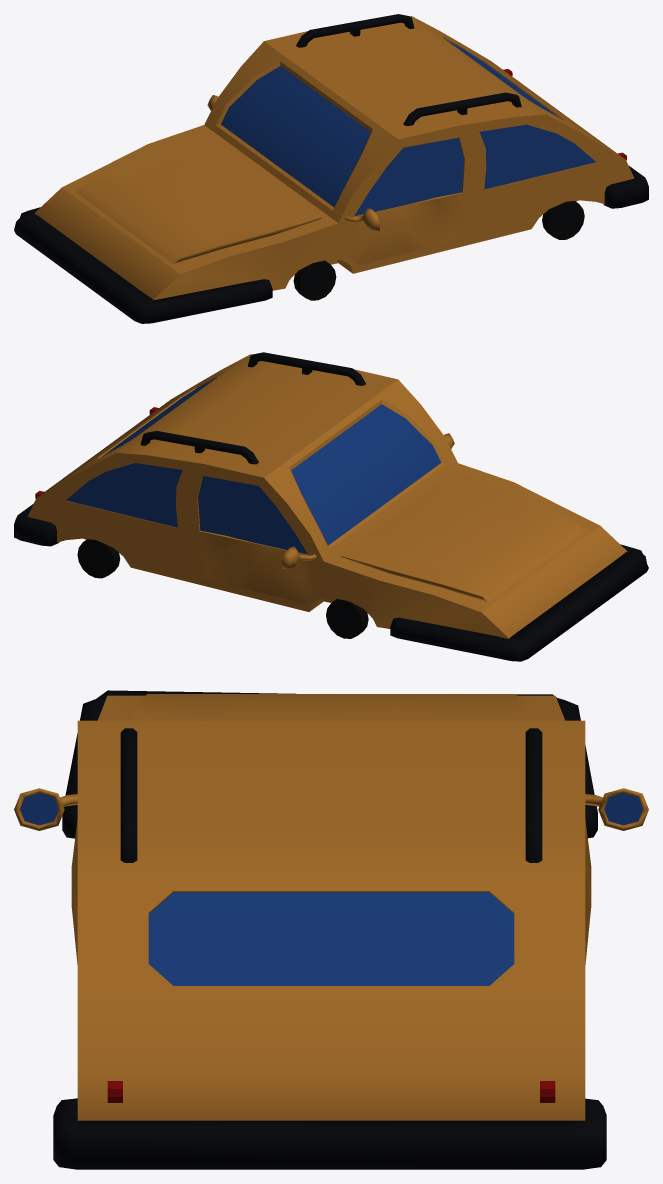
Rendered from Player_car_1.FBX.
3 views of the same model, one above another, from view 1: azimuth 30°, elevation 25°; view 2: azimuth 150°, elevation 25°; view 3: azimuth 270°, elevation 25° (orthographic). The views are drawn at different scales.
Parts seen in each view (by area): view 1: Line001, Dummy037, Dummy043, Dummy038, Dummy039; view 2: Line001, Dummy037, Dummy041, Cylinder002, Cylinder003; view 3: Line001, Dummy037, Dummy041, Dummy043.
Boxes of the visible parts, x1,y1,x2,y2 form: Line001: (14, 14, 648, 323); Dummy037: (77, 133, 321, 263); Dummy043: (341, 131, 470, 265); Dummy038: (293, 260, 336, 300); Dummy039: (542, 201, 584, 239); Line001: (14, 352, 648, 661); Dummy037: (340, 471, 585, 602); Dummy041: (191, 469, 321, 603); Cylinder002: (326, 598, 368, 638); Cylinder003: (77, 539, 120, 578); Line001: (53, 690, 606, 1169); Dummy037: (130, 694, 532, 720); Dummy041: (585, 788, 648, 964); Dummy043: (14, 788, 77, 964).
Bounding box in the file's own units: 159 × 46.5 × 91.52.
